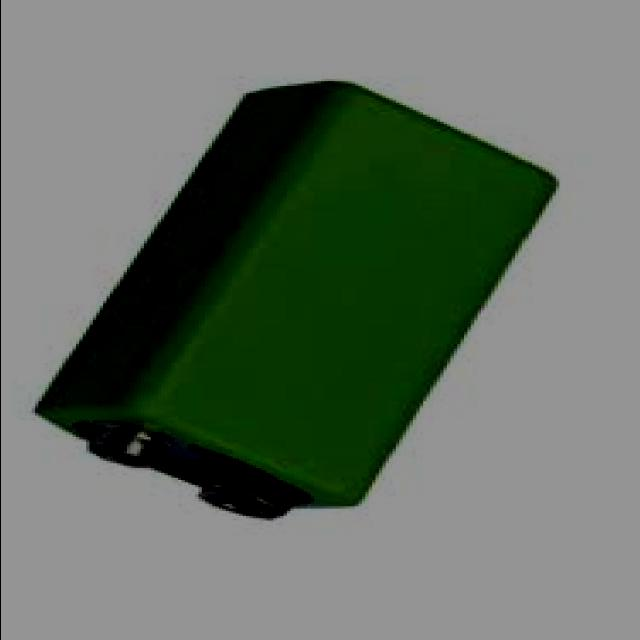9V: (44, 86, 555, 504)
